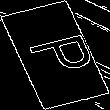P_E: (14, 29, 96, 81)
